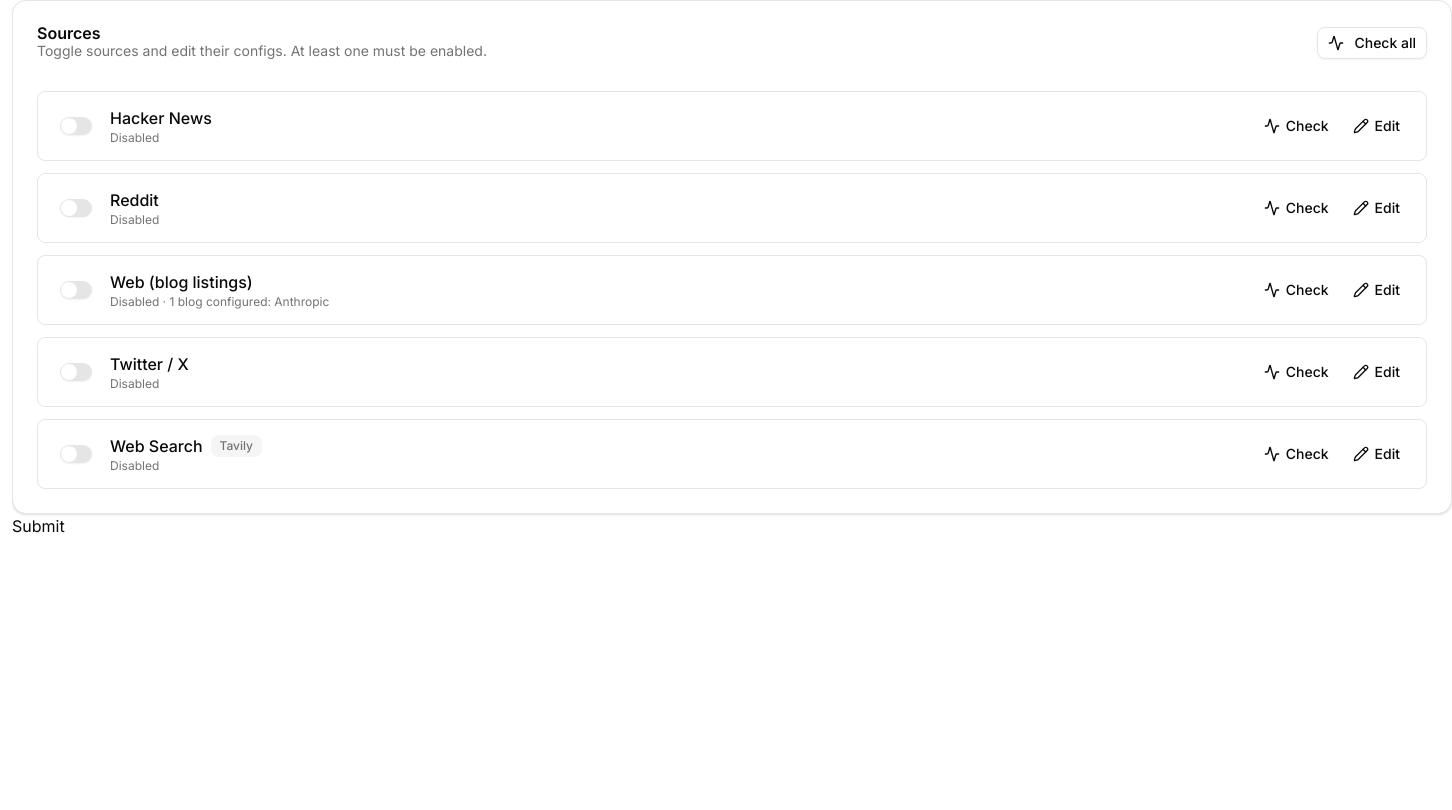
Test case: WebEditPanel — per-source Name+URL row inputs › keeps the disabled Web row editable
Click the button with aria-label "web (blog listings) edit" at (1376, 290), box [1343,268,1410,312]
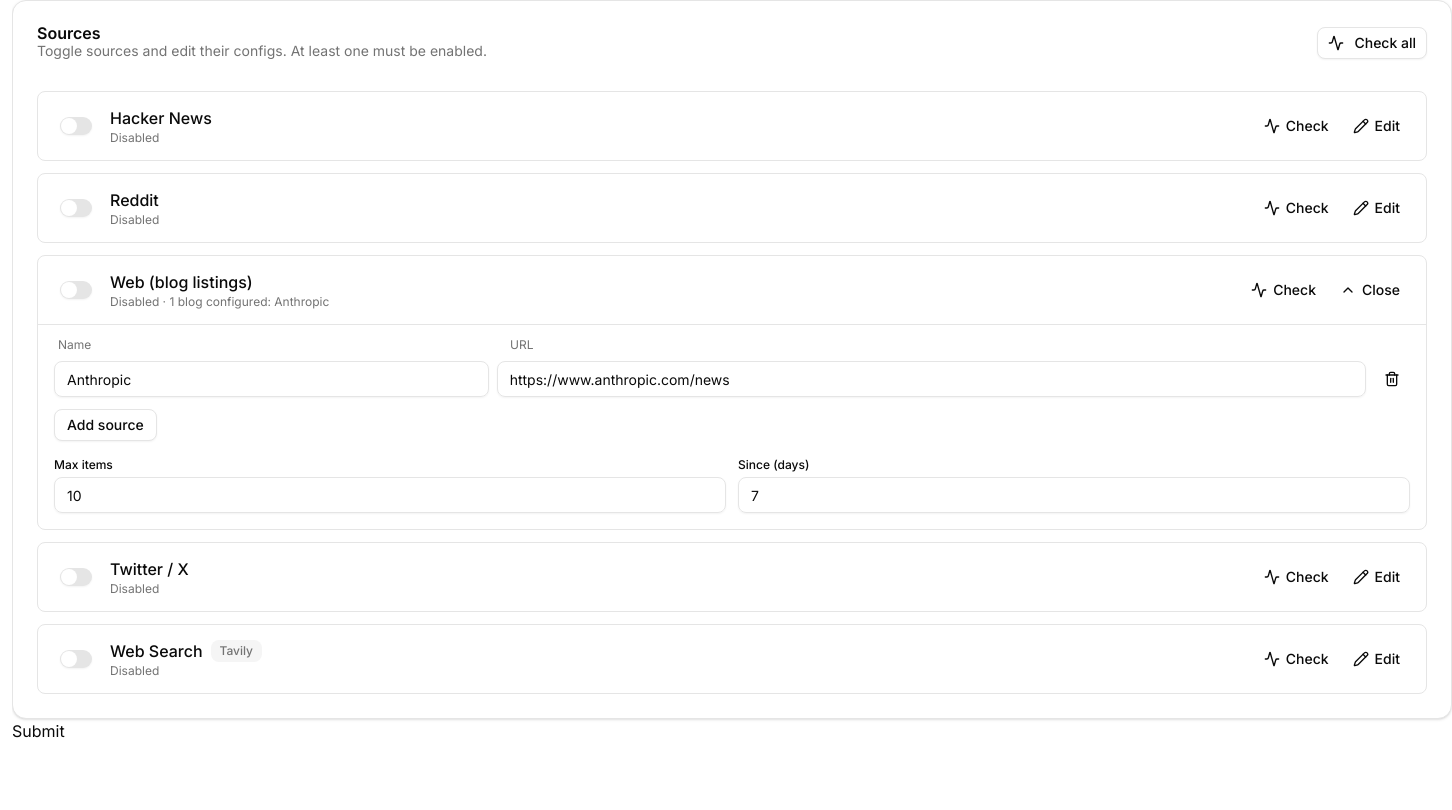
Check: the 1st field showing "Anthropic" is shown, box [54,361,489,397]
